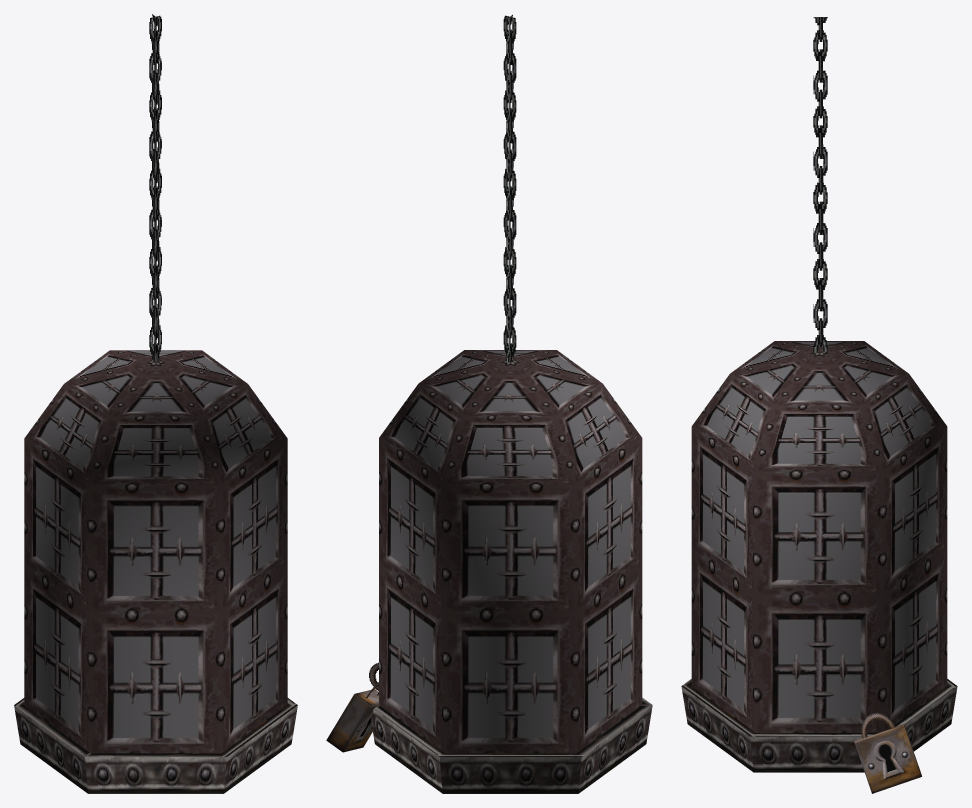
The model's file is hangingcage01.obj.
3 renders of one model, left to right at view 1: azimuth 30°, elevation 25°; view 2: azimuth 150°, elevation 25°; view 3: azimuth 270°, elevation 25°, orthographic. The views are drawn at different scales.
Visible parts, largest first — view 1: HANGINGCAGE014, HANGINGCAGE010, HANGINGCAGE012; view 2: HANGINGCAGE014, HANGINGCAGE010, HANGINGCAGE012, HANGINGCAGE011; view 3: HANGINGCAGE014, HANGINGCAGE010, HANGINGCAGE012, HANGINGCAGE011.
Part boxes in pixels (bbox=[...]): HANGINGCAGE014: bbox=[24, 350, 287, 753]; HANGINGCAGE010: bbox=[14, 698, 297, 793]; HANGINGCAGE012: bbox=[149, 14, 161, 363]; HANGINGCAGE014: bbox=[379, 350, 642, 753]; HANGINGCAGE010: bbox=[371, 697, 652, 793]; HANGINGCAGE012: bbox=[503, 14, 516, 364]; HANGINGCAGE011: bbox=[326, 689, 379, 752]; HANGINGCAGE014: bbox=[691, 341, 947, 732]; HANGINGCAGE010: bbox=[681, 679, 957, 772]; HANGINGCAGE012: bbox=[813, 17, 827, 352]; HANGINGCAGE011: bbox=[854, 724, 921, 793].
Size of the model in its own units: 2.15 by 6.24 by 2.17.
Materials: 5 (5 with a texture image).
